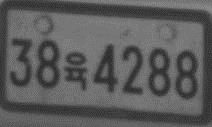2: (120, 44, 143, 95)
3: (9, 36, 32, 88)
4: (92, 43, 118, 96)
8: (36, 38, 60, 90), (148, 46, 172, 98), (175, 49, 198, 100)
육: (62, 51, 89, 91)
